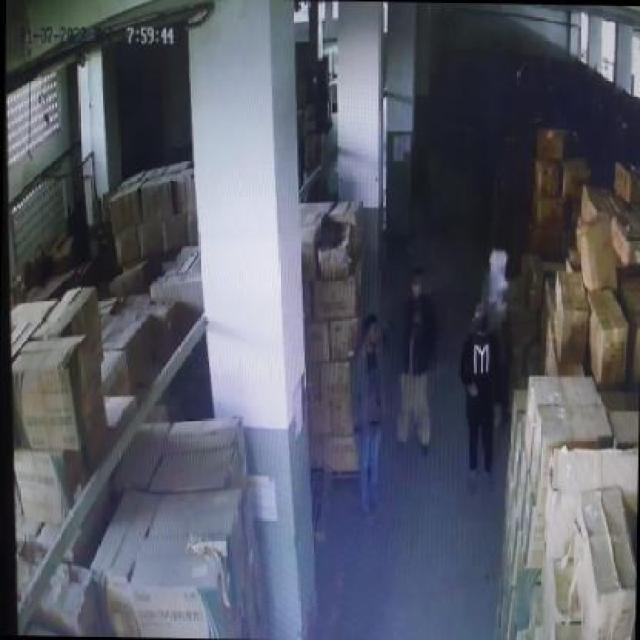fire: (486, 245, 508, 318)
